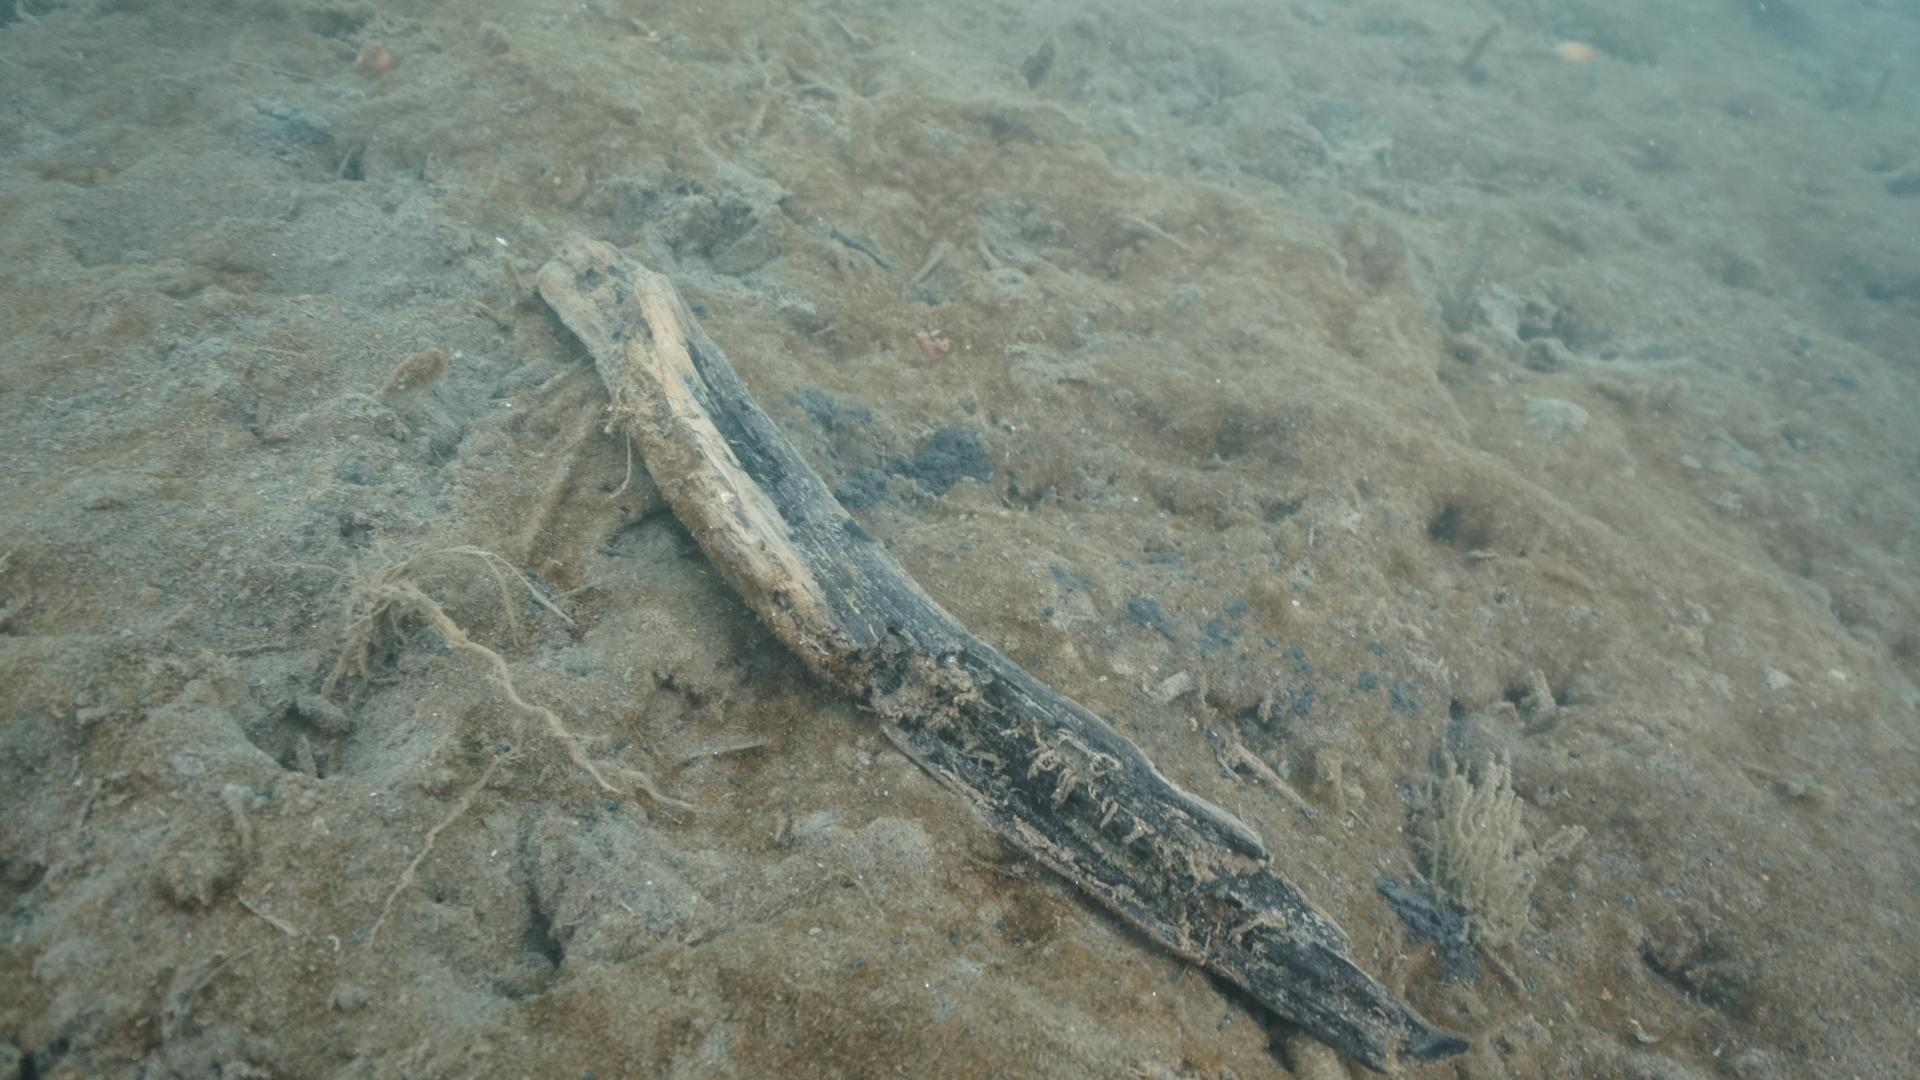wood: (531, 231, 1472, 1077)
